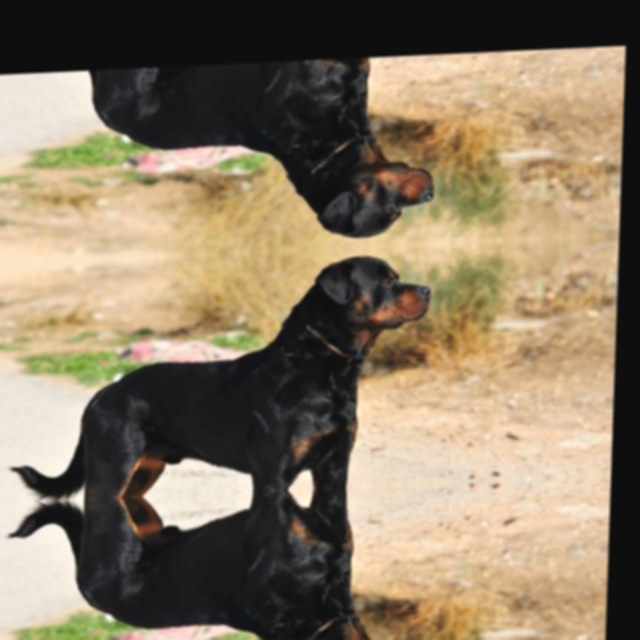dog: (4, 247, 441, 503), (13, 54, 447, 258), (0, 483, 433, 640)
